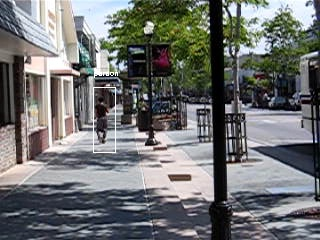person: (95, 97, 110, 147), (94, 97, 109, 147), (96, 97, 111, 147), (95, 96, 110, 146), (95, 98, 110, 148)
target_negative: (5, 35, 140, 143), (39, 44, 254, 109), (83, 44, 290, 98), (133, 144, 214, 208), (178, 151, 196, 204), (34, 8, 79, 14)
